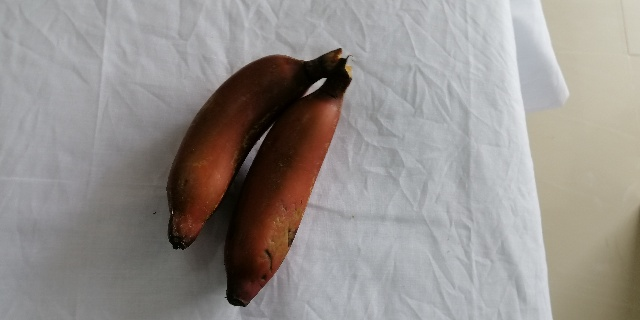banana_red: (166, 46, 343, 251), (223, 61, 351, 309)
